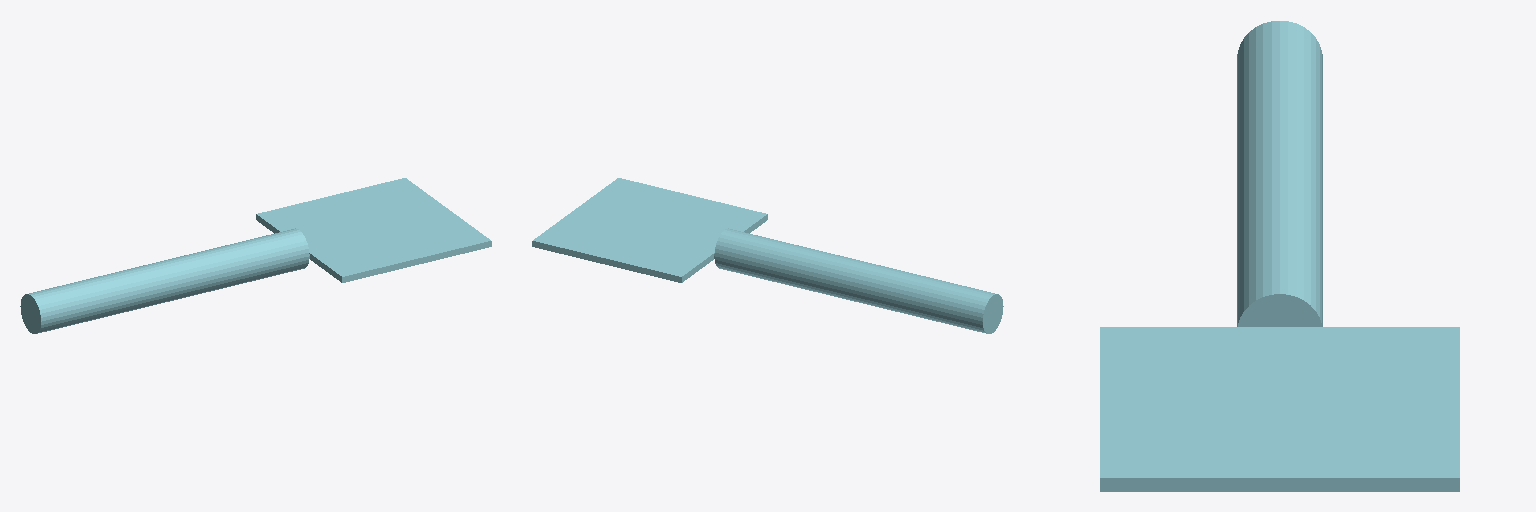
URDF robot description (large_spatula):
<?xml version="1.0"?>
<robot name="large_spatula">

  <link name="large_spatula">
    <!-- Handle -->
    <visual>
      <origin xyz="0 0 0" rpy="0 1.5707963267948966 0"/>
      <geometry>
        <cylinder length="0.18" radius="0.012"/>
      </geometry>
      <material name="material">
        <color rgba="0.639 0.847 0.882 1.0"/>
      </material>
    </visual>
    <collision>
      <origin xyz="0 0 0" rpy="0 1.5707963267948966 0"/>
      <geometry>
        <cylinder length="0.18" radius="0.012"/>
      </geometry>
    </collision>

    <!-- Head -->
    <visual>
      <origin xyz="0.14 0 0" rpy="0 0 0"/>
      <geometry>
        <box size="0.1 0.1 0.004"/>
      </geometry>
      <material name="material">
        <color rgba="0.639 0.847 0.882 1.0"/>
      </material>
    </visual>
    <collision>
      <origin xyz="0.14 0 0" rpy="0 0 0"/>
      <geometry>
        <box size="0.1 0.1 0.004"/>
      </geometry>
    </collision>

    <inertial>
      <density value="400.0"/>
    </inertial>
  </link>

</robot>

--- Facts derived from the render (not from the file) ---
Views: 3 orthographic renders of the robot side by side, from view 1: azimuth 30°, elevation 25°; view 2: azimuth 150°, elevation 25°; view 3: azimuth 270°, elevation 25°.
Robot: large_spatula — 1 links, 0 joints (none); root link large_spatula; default pose: every joint at zero.
Links seen in each view (by area): view 1: large_spatula; view 2: large_spatula; view 3: large_spatula.
Boxes of the visible links, x1=… form: large_spatula: x1=20, y1=178, x2=491, y2=333; large_spatula: x1=532, y1=178, x2=1003, y2=333; large_spatula: x1=1100, y1=21, x2=1459, y2=491.
Size in the robot's own frame: 0.28 by 0.1 by 0.024 metres.
Geometry: primitives only (box / cylinder / sphere), no mesh files.
